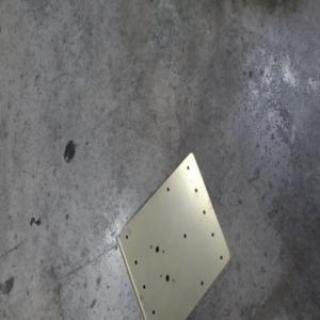MetalSheettrack_idkeyframe: (114, 149, 230, 319)
